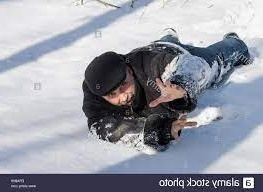fall: (80, 23, 254, 157)
